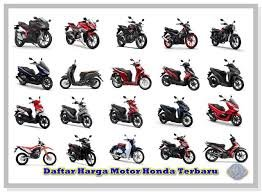motor: (61, 17, 103, 53), (110, 60, 153, 92), (162, 58, 201, 91), (206, 58, 245, 90), (59, 61, 102, 90), (15, 136, 57, 165), (204, 136, 250, 162), (158, 134, 195, 166), (106, 96, 143, 128), (14, 98, 50, 130), (14, 20, 54, 48), (206, 95, 241, 127), (162, 17, 199, 47), (159, 98, 196, 127), (58, 97, 92, 128), (111, 135, 146, 165), (209, 17, 241, 49), (16, 59, 52, 87), (117, 16, 147, 49), (66, 136, 97, 165)
